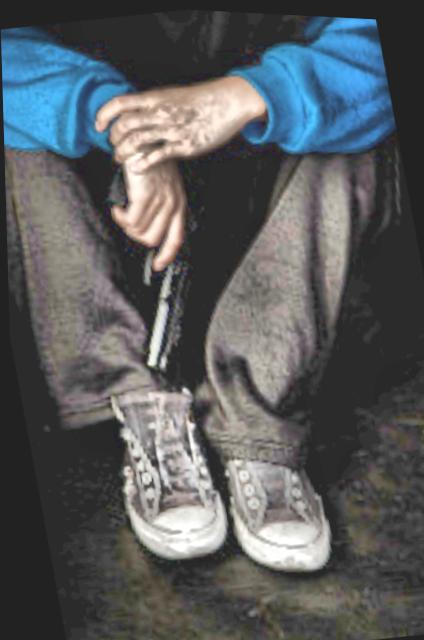pistol: (91, 147, 215, 374)
